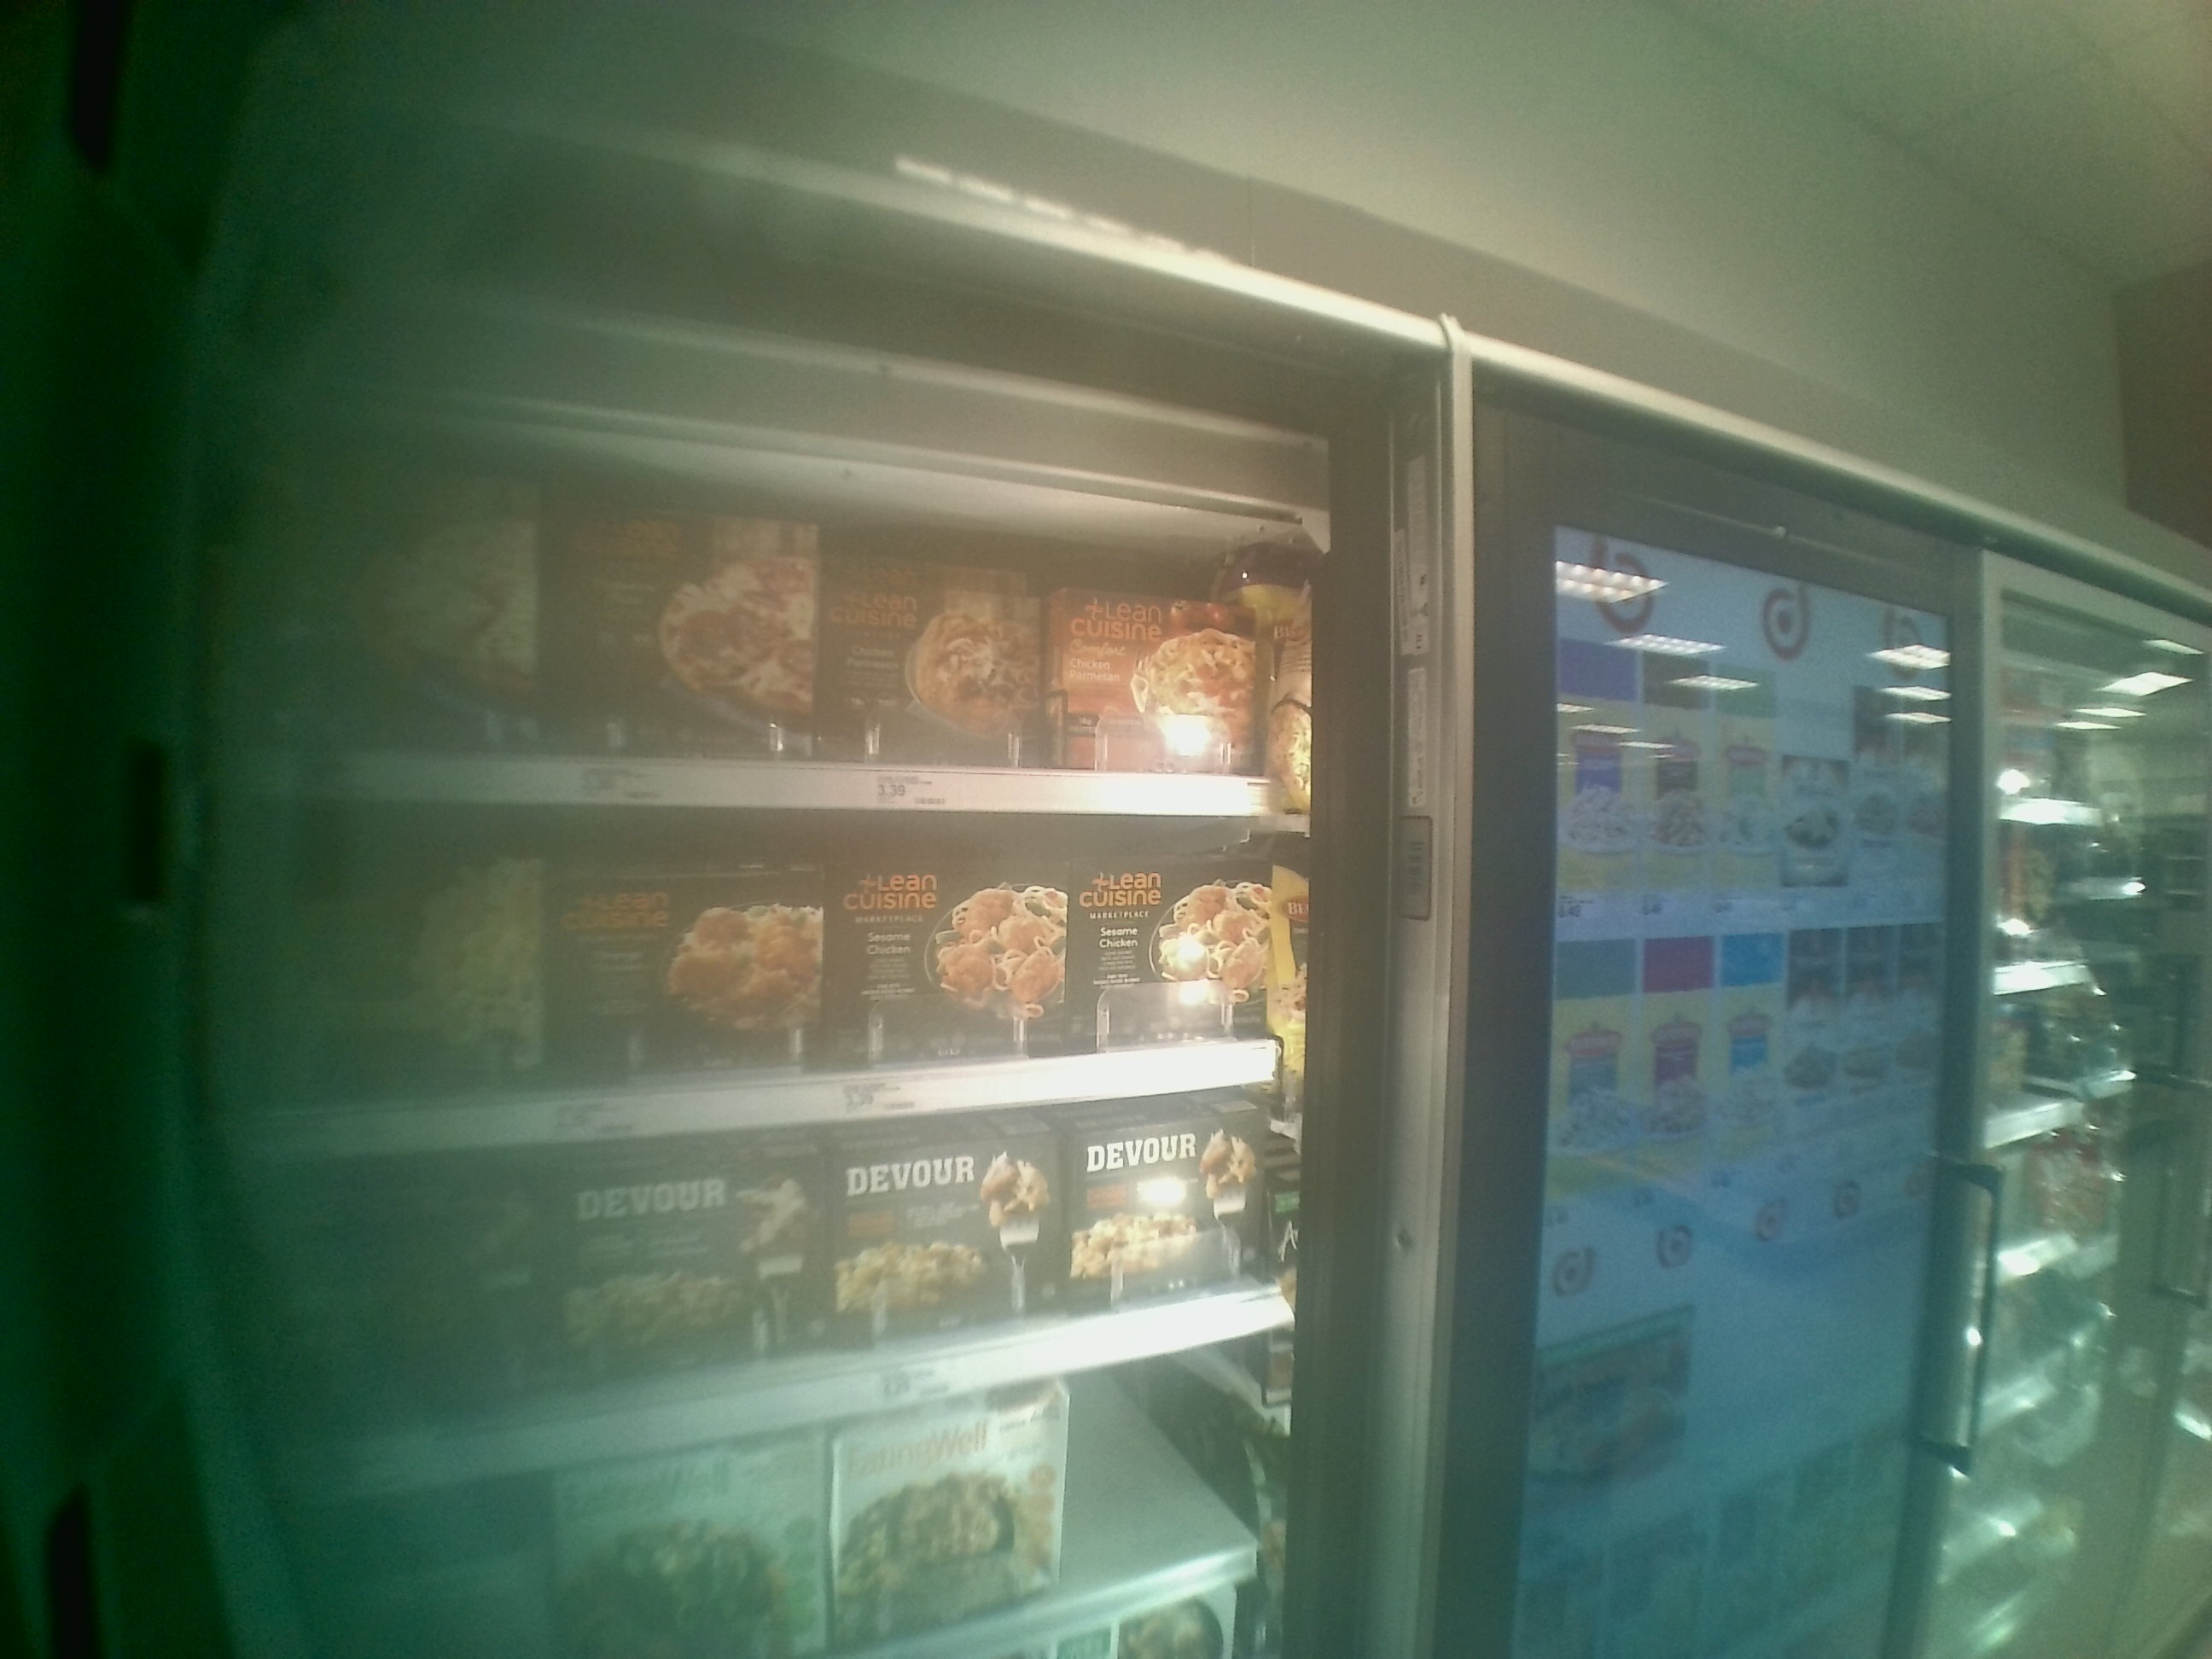shelf: (239, 807, 1310, 1155), (258, 457, 1289, 814)
